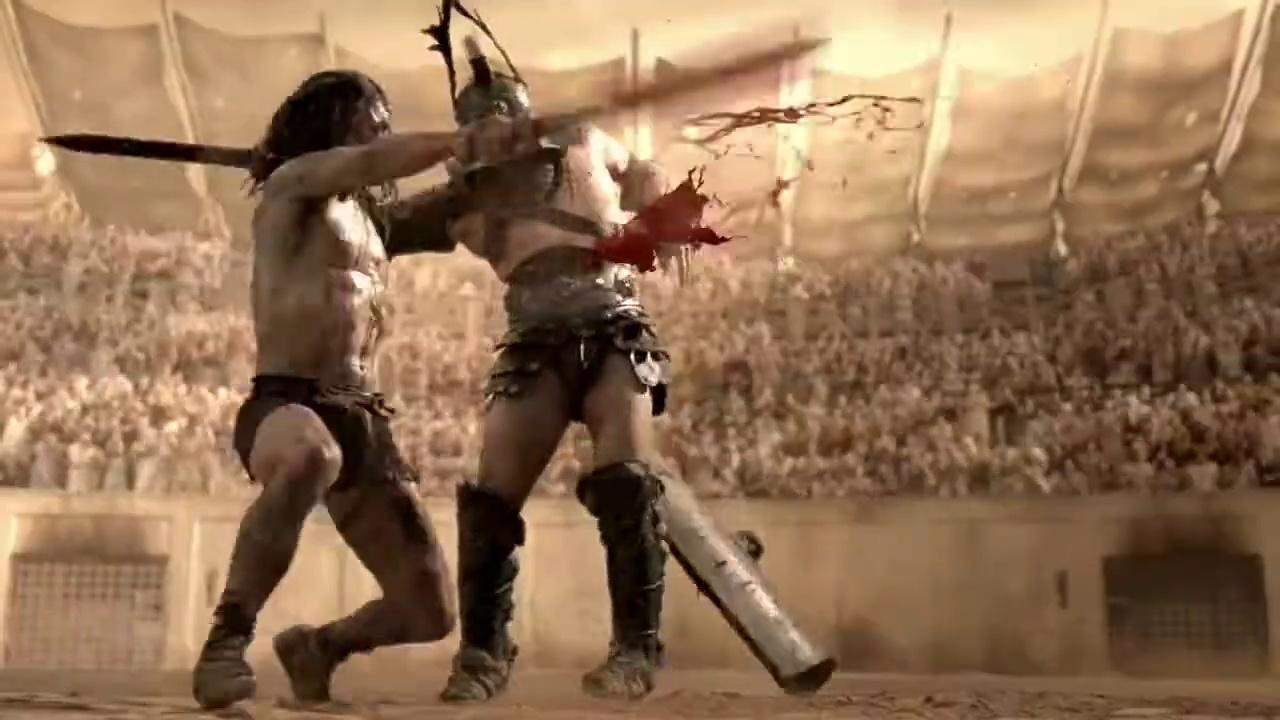Fire: (596, 167, 730, 270), (686, 91, 926, 146), (768, 174, 799, 209), (807, 159, 814, 168)
